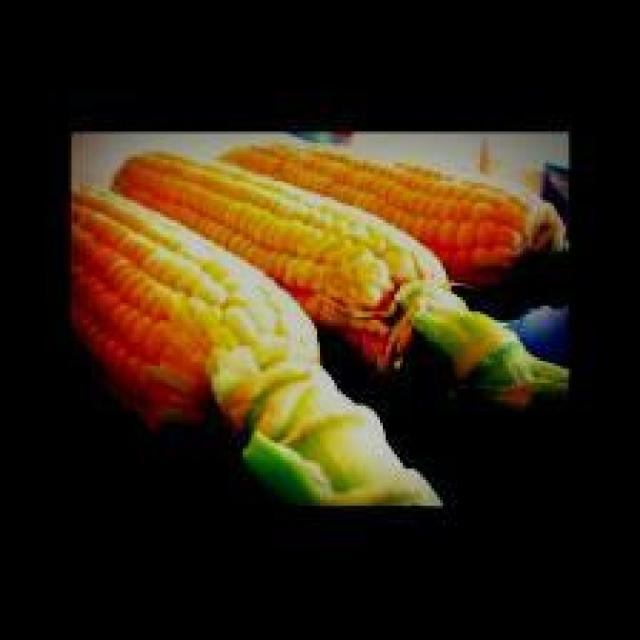corn: (69, 189, 440, 506), (109, 154, 566, 403)
